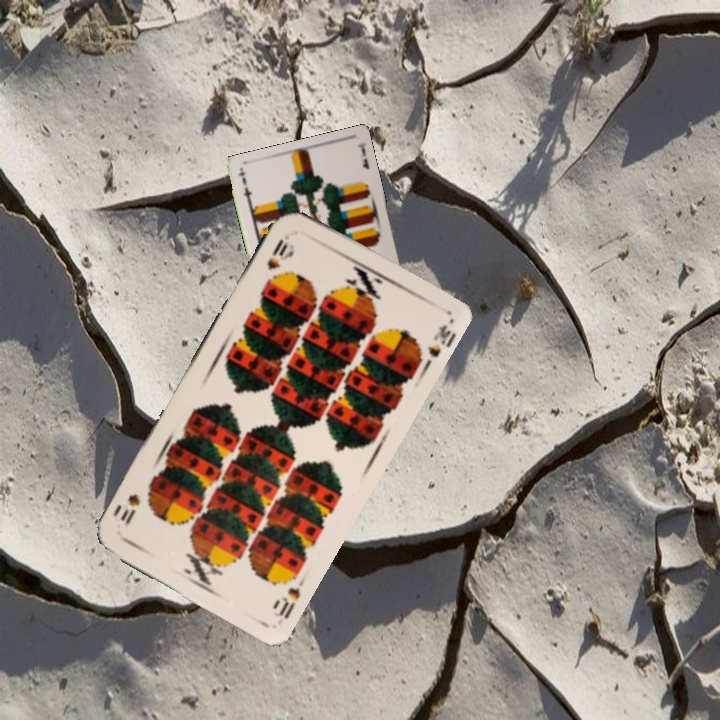E7: (238, 173, 255, 208)
S10: (268, 571, 309, 622), (263, 230, 292, 273)
